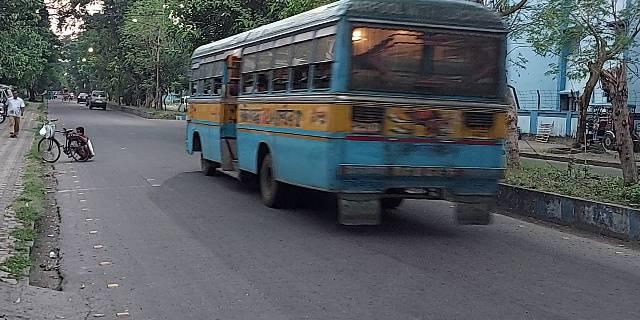Bus: (186, 4, 514, 214)
Cycle: (43, 132, 93, 162)
